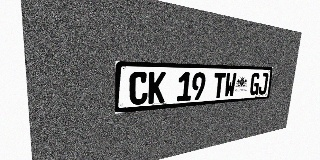1: (176, 72, 193, 101)
9: (191, 72, 206, 100)
C: (129, 72, 148, 105)
G: (249, 73, 260, 96)
J: (258, 73, 269, 95)
K: (148, 72, 166, 104)
T: (212, 72, 226, 99)
W: (224, 73, 237, 98)
